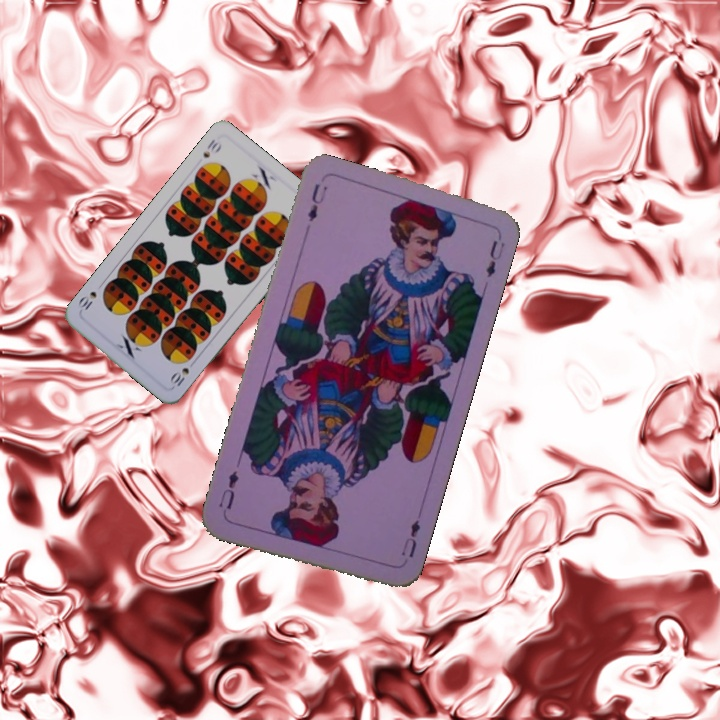EU: (303, 179, 330, 225), (397, 516, 423, 560)
S10: (166, 363, 192, 390), (199, 135, 224, 161)
